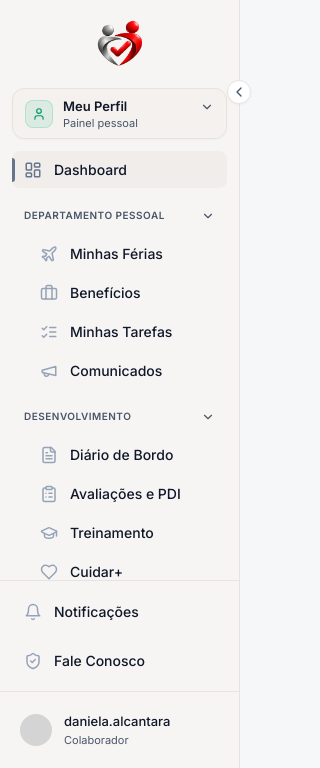
Sidebar — Seletor de Perfil Ativo (Estilo Flash) › prioriza admin_empresa sobre analista_rh ao alternar para Perfil da Empresa
Later steps or results of the test are not shown.
Check: the text with test id "active-profile-title" reads "Meu Perfil", box [63,98,127,114]
Press the mouse on the button with test id "profile-switcher-trigger" at [120, 114], box [12,88,227,139]
Click the button with test id "profile-switcher-trigger" at [120, 114], box [12,88,227,139]
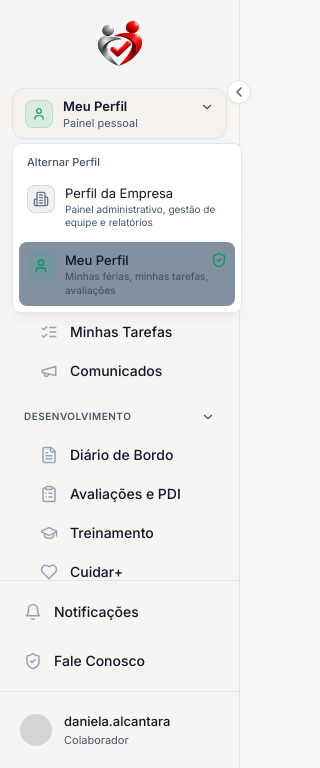
Check: the menu item with test id "profile-option-empresa" is shown, box [19,174,235,238]
